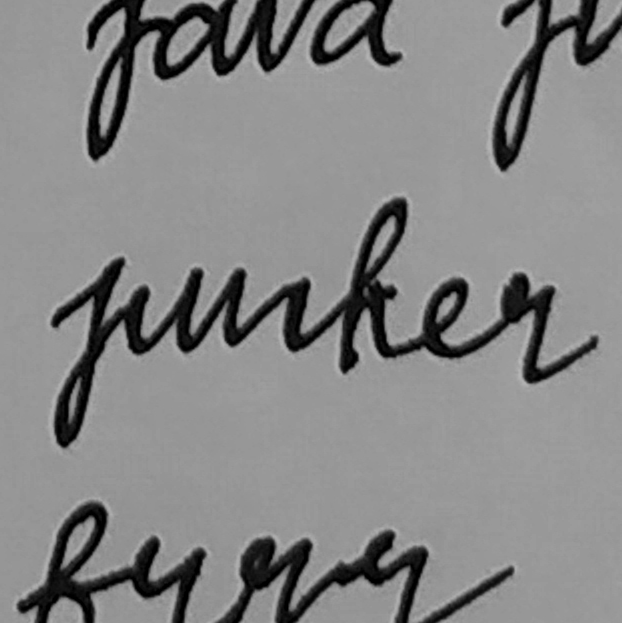e: (416, 272, 479, 363)
j: (44, 254, 129, 450)
k: (330, 191, 411, 379)
n: (215, 260, 317, 359)
r: (487, 268, 563, 392)
u: (120, 262, 210, 363)
